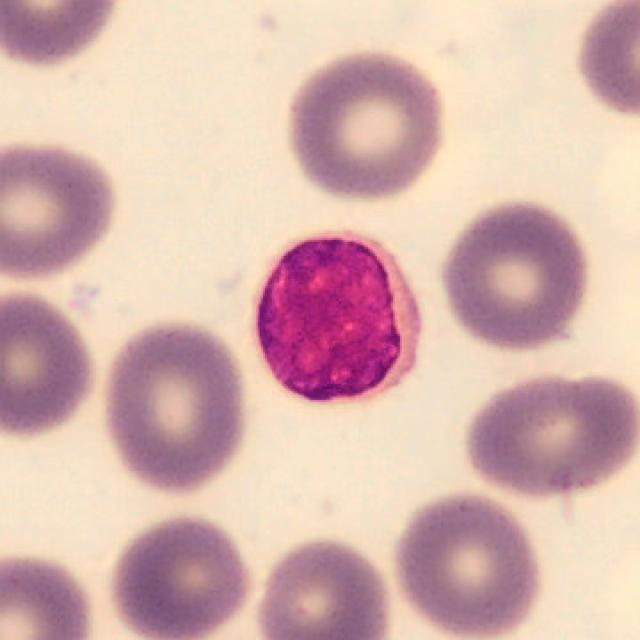Linfocito: (252, 233, 423, 405)
